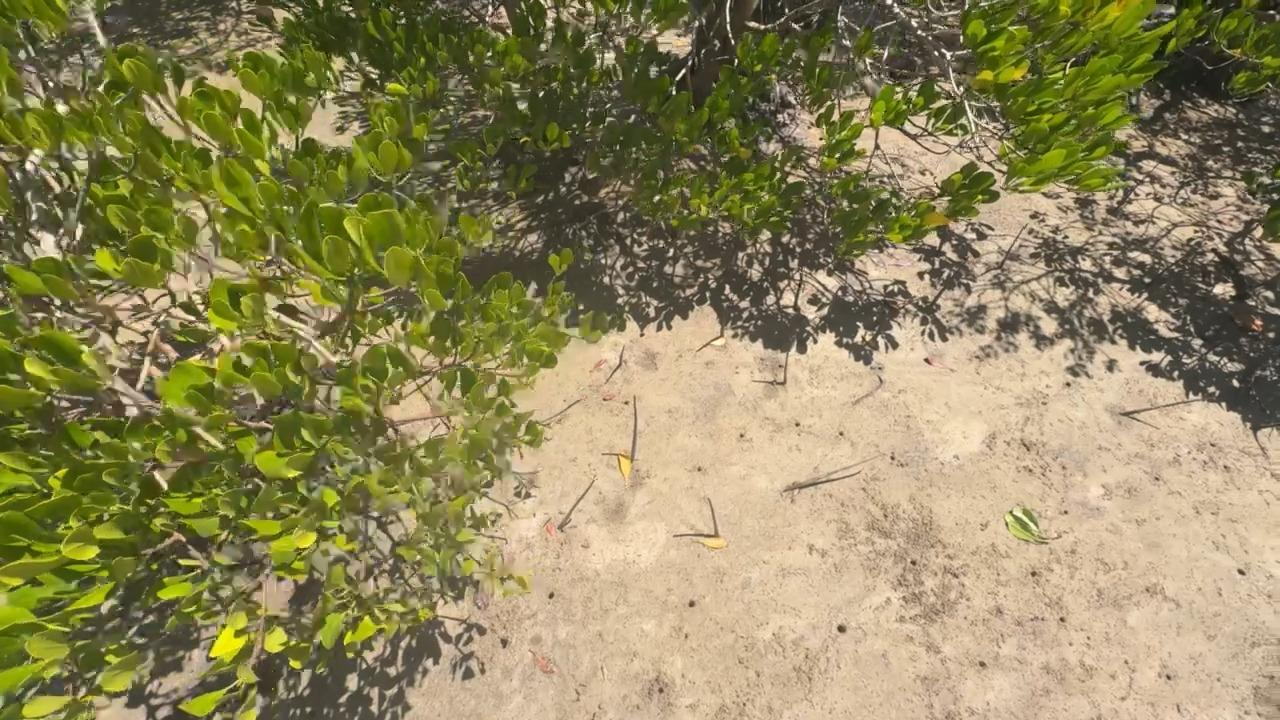Tree: (559, 479, 595, 529), (1120, 397, 1216, 415), (784, 471, 860, 491), (1000, 224, 1029, 267), (630, 393, 639, 461), (706, 496, 719, 536), (619, 346, 626, 369), (784, 351, 789, 383)
